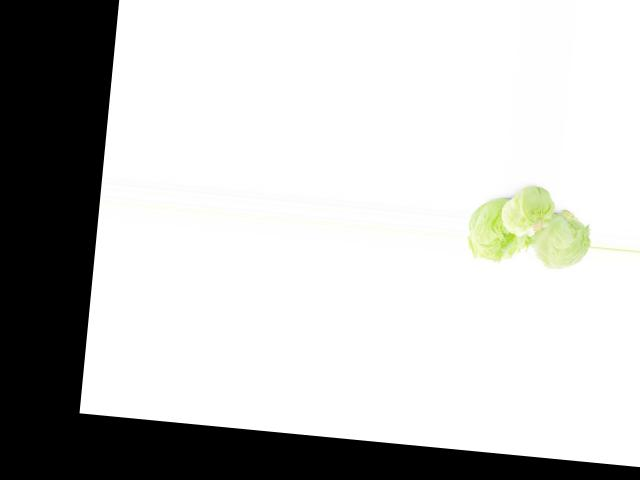lettuce: (468, 199, 525, 260)
